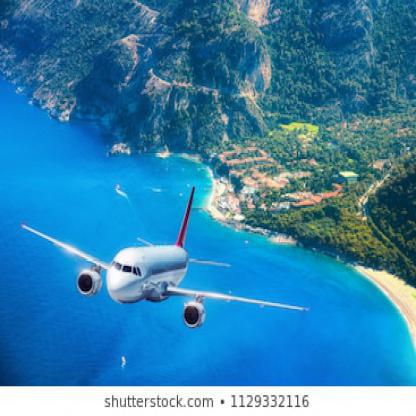CIV_Plane: (12, 180, 311, 335)
